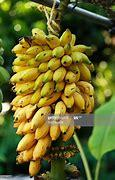banana: (4, 23, 97, 169)
